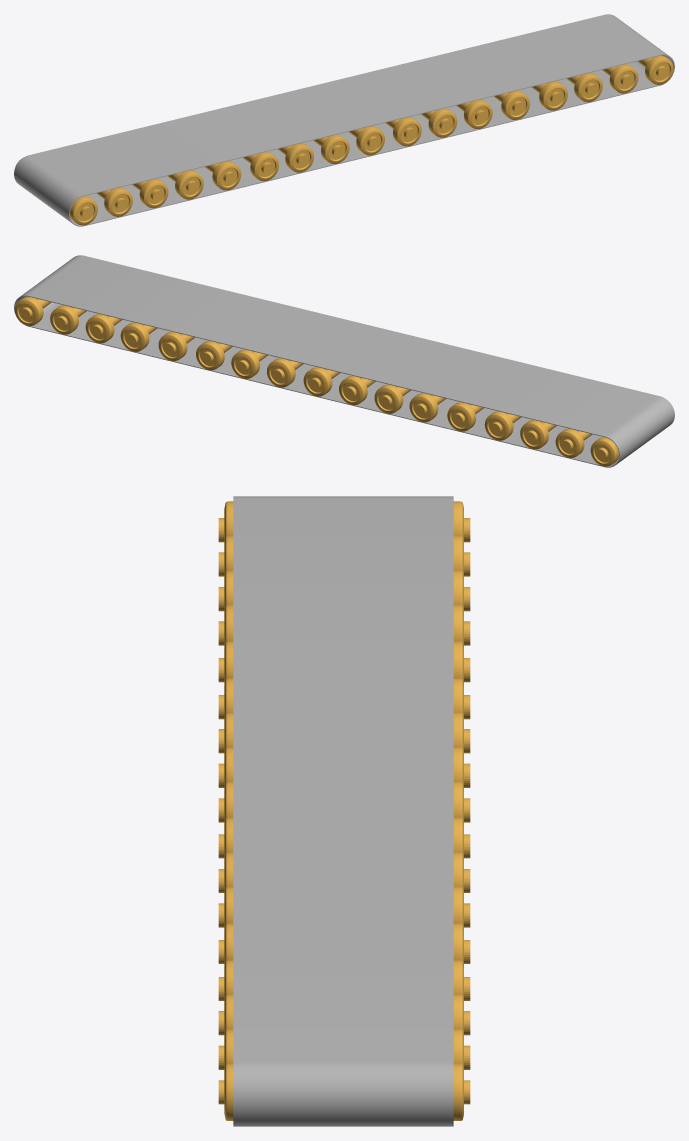
The model's file is Conveyor.fbx.
The picture shows the model from 3 angles, top to bottom: view 1: azimuth 30°, elevation 25°; view 2: azimuth 150°, elevation 25°; view 3: azimuth 270°, elevation 25°; orthographic projection. The views are drawn at different scales.
Visible parts, largest first — view 1: Circle.001; view 2: Circle.001; view 3: Circle.001.
Boxes of the visible parts, x1,y1,x2,y2 form: Circle.001: (14,14,674,226); Circle.001: (14,255,674,467); Circle.001: (218,496,470,1126).
Bounding box in the file's own units: 1145 × 55.59 × 206.
